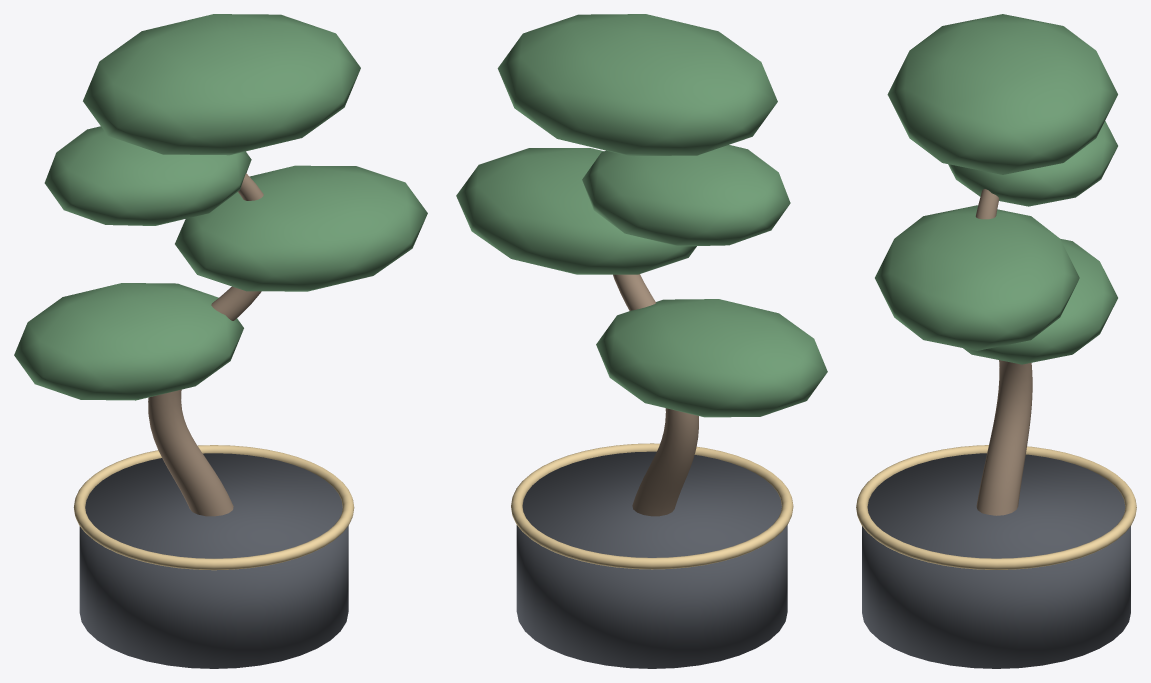
The model's file is tree_bokeh.glb.
3 renders of one model, left to right at view 1: azimuth 30°, elevation 25°; view 2: azimuth 150°, elevation 25°; view 3: azimuth 270°, elevation 25°, orthographic.
Parts seen in each view (by area): view 1: tree_bokeh_QuantizedMesh; view 2: tree_bokeh_QuantizedMesh; view 3: tree_bokeh_QuantizedMesh.
Boxes of the visible parts, x1=… form: tree_bokeh_QuantizedMesh: x1=14, y1=14, x2=427, y2=668; tree_bokeh_QuantizedMesh: x1=456, y1=14, x2=827, y2=668; tree_bokeh_QuantizedMesh: x1=856, y1=14, x2=1136, y2=668.
Bounding box in the file's own units: 1.3 × 1.98 × 0.876.
